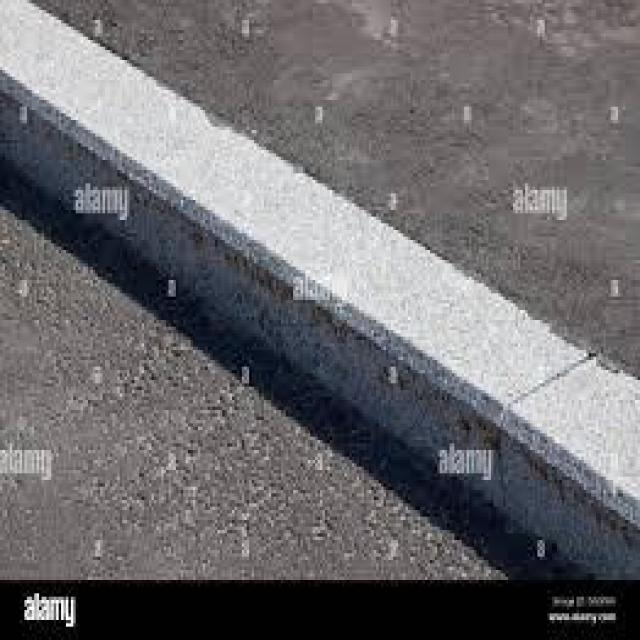curb: (281, 155, 640, 577), (1, 1, 268, 299)
